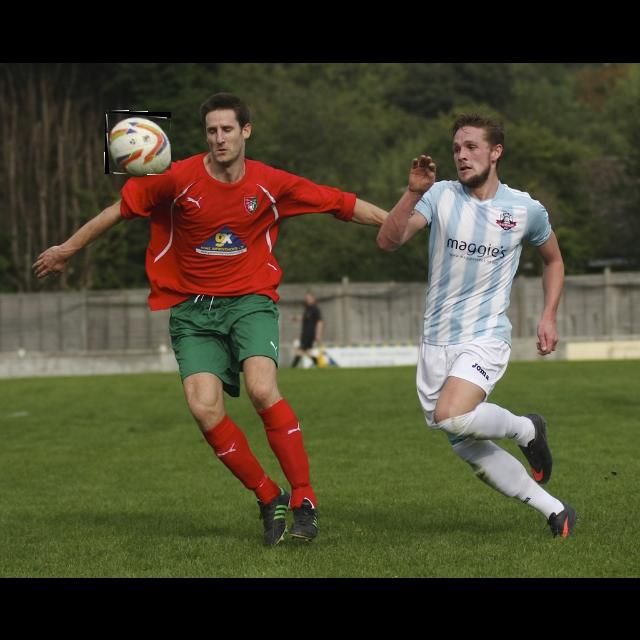Football: (105, 112, 171, 174)
